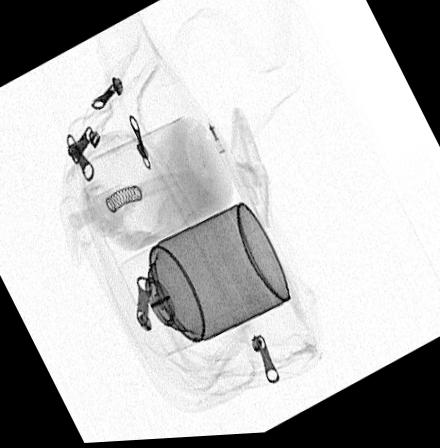Sprayer: (114, 204, 291, 360)
